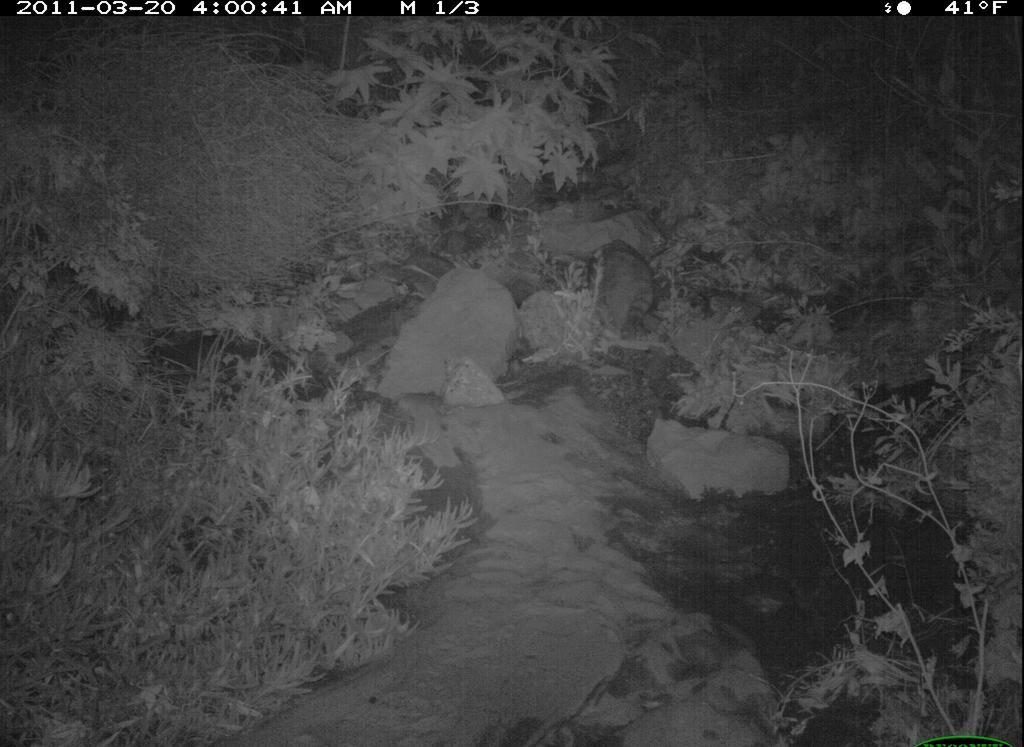raccoon: (580, 237, 669, 351)
